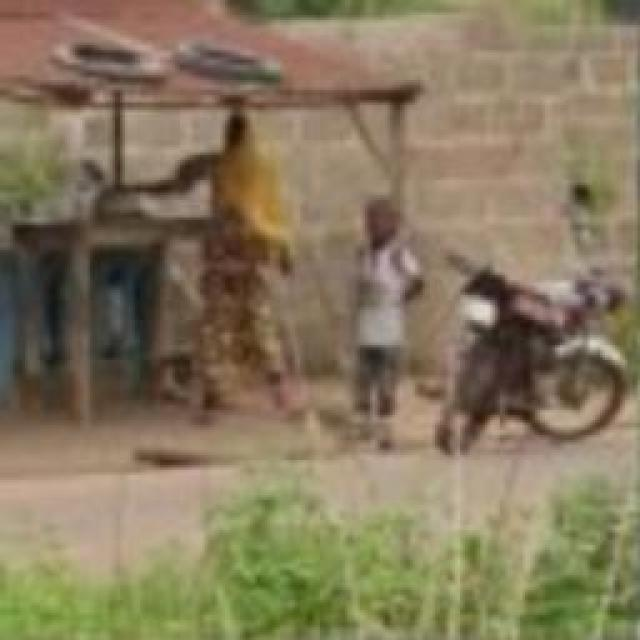motorcycle: (430, 246, 630, 458)
